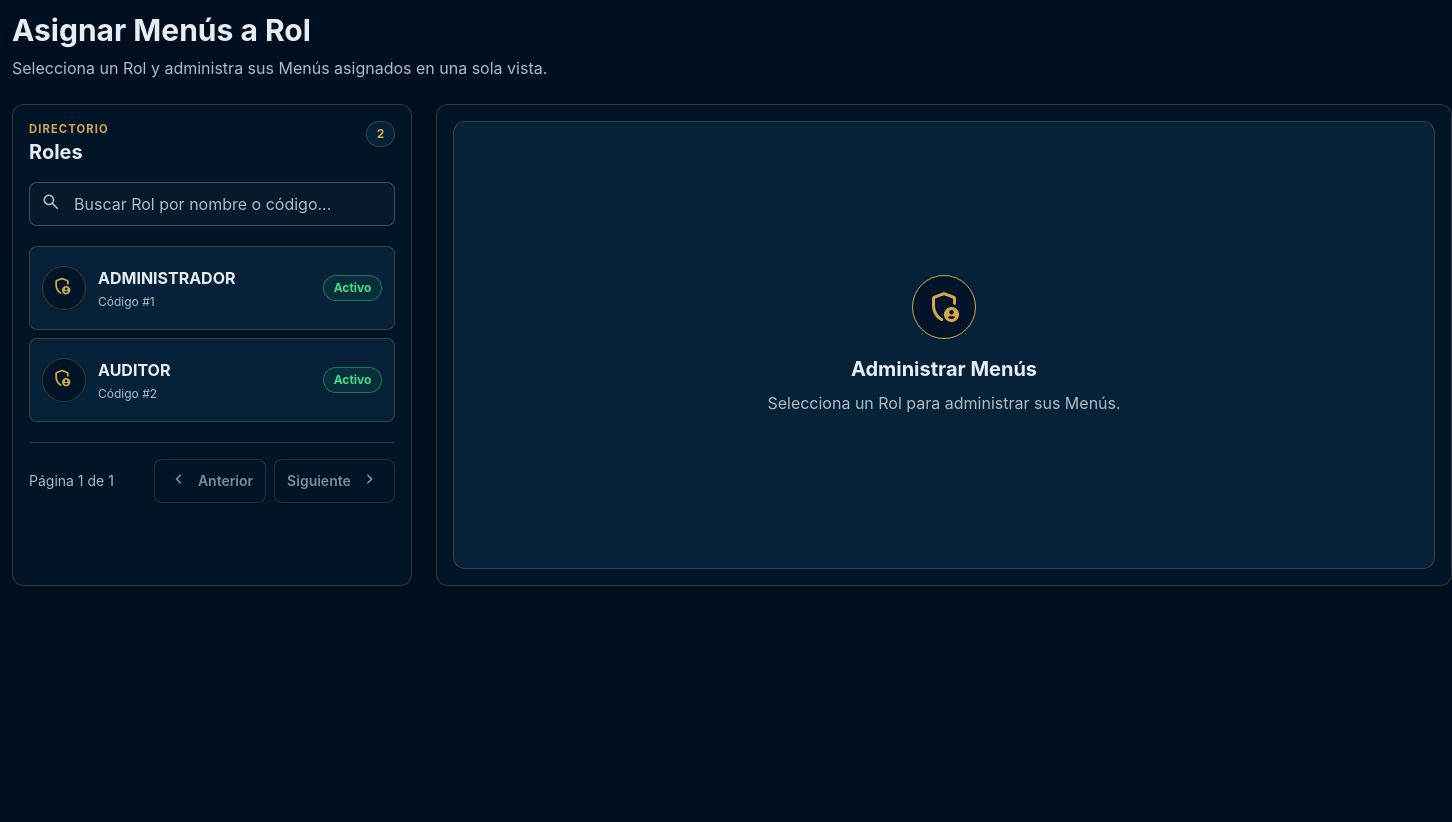
Test case: AsignarMenusListComponent › assigns a Menu and refreshes the selected Role
Click the button "ADMINISTRADOR Código #1 Activo" at [212, 288], box 29,246 -> 395,330
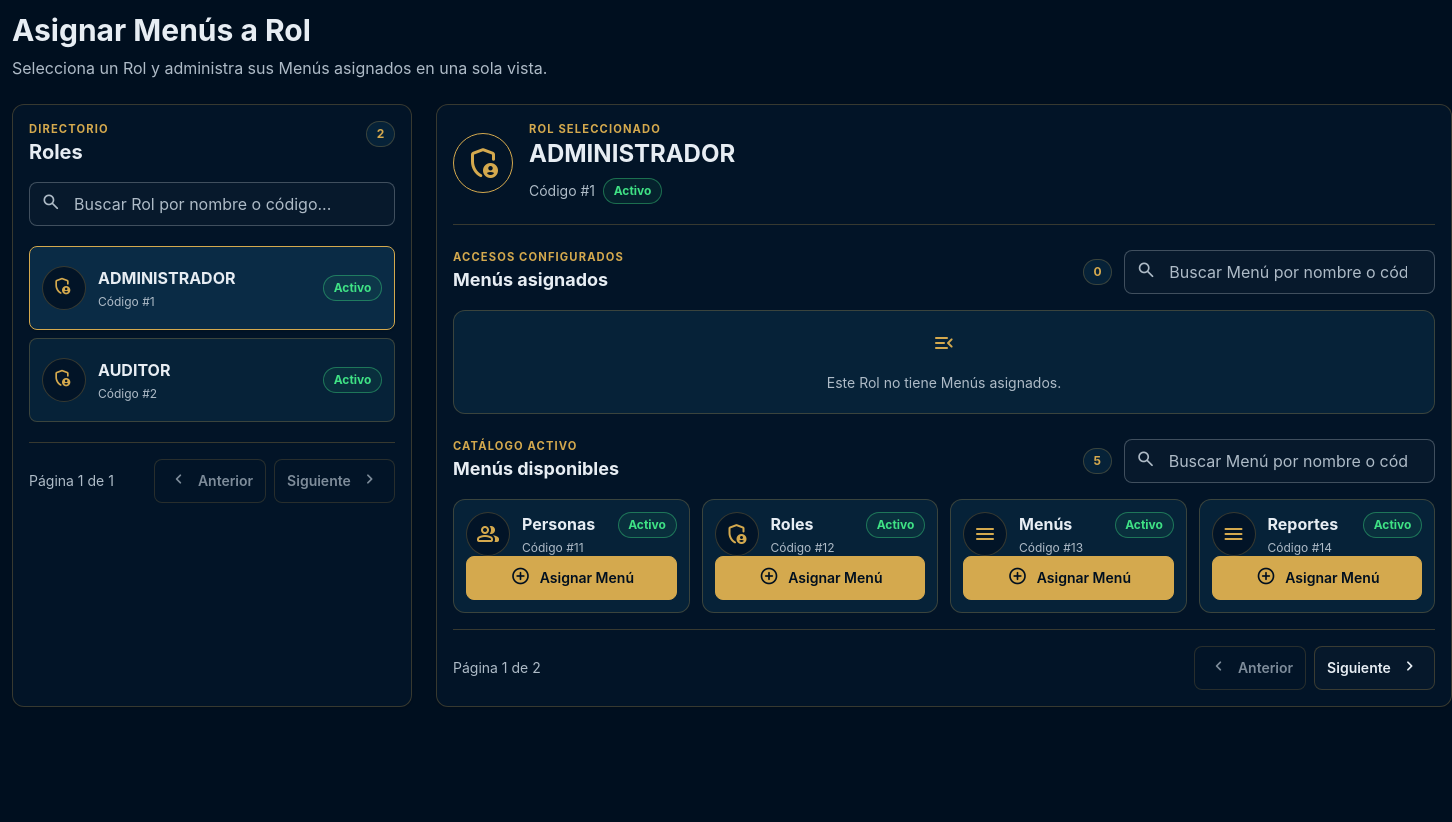
Click the button with class "menu-action-assign" below "Código #11" at [571, 578], box 466,556 -> 676,600
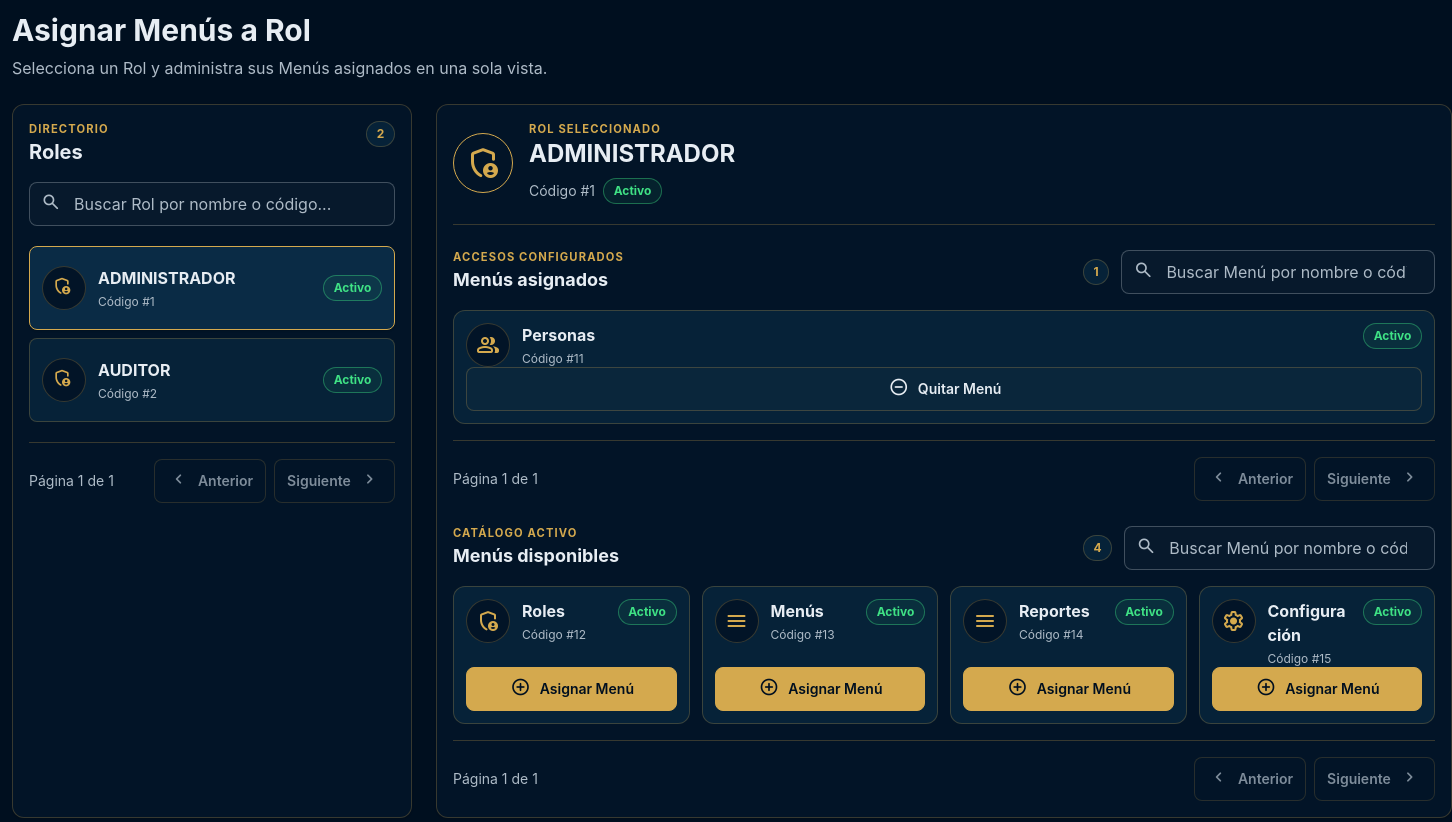
Check: the element that starts with "Accesos configurados" shows "Personas", box 522,325 -> 595,345
